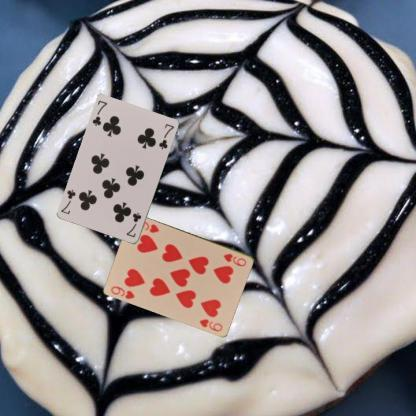7c: (90, 98, 108, 128), (124, 210, 142, 239)
9h: (108, 283, 136, 301), (221, 250, 248, 268)
